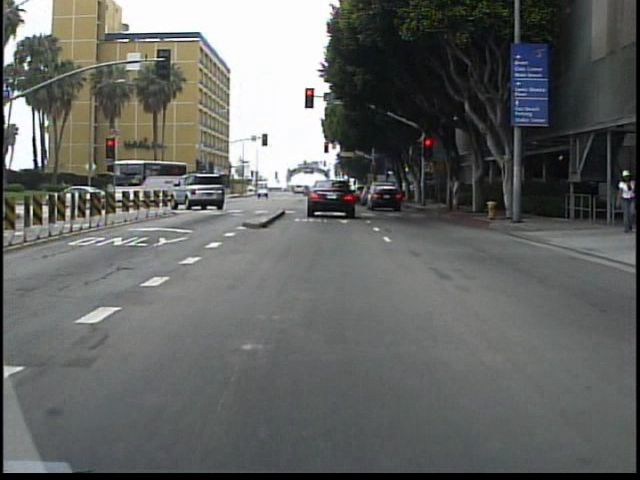person: (448, 169, 465, 214)
